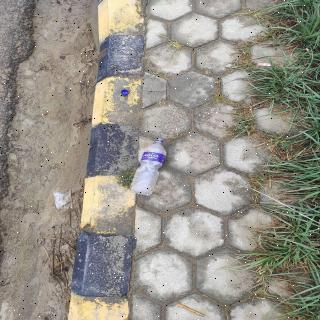Plastic-bottle: (128, 136, 171, 198)
